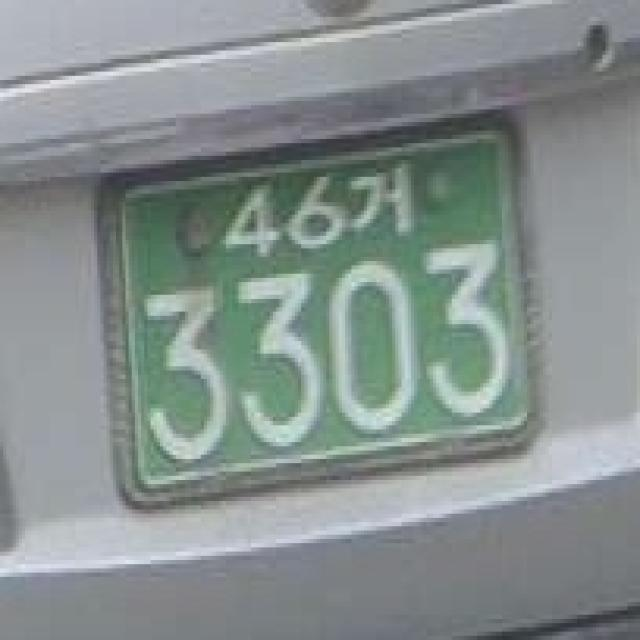plat: (97, 107, 540, 508)
